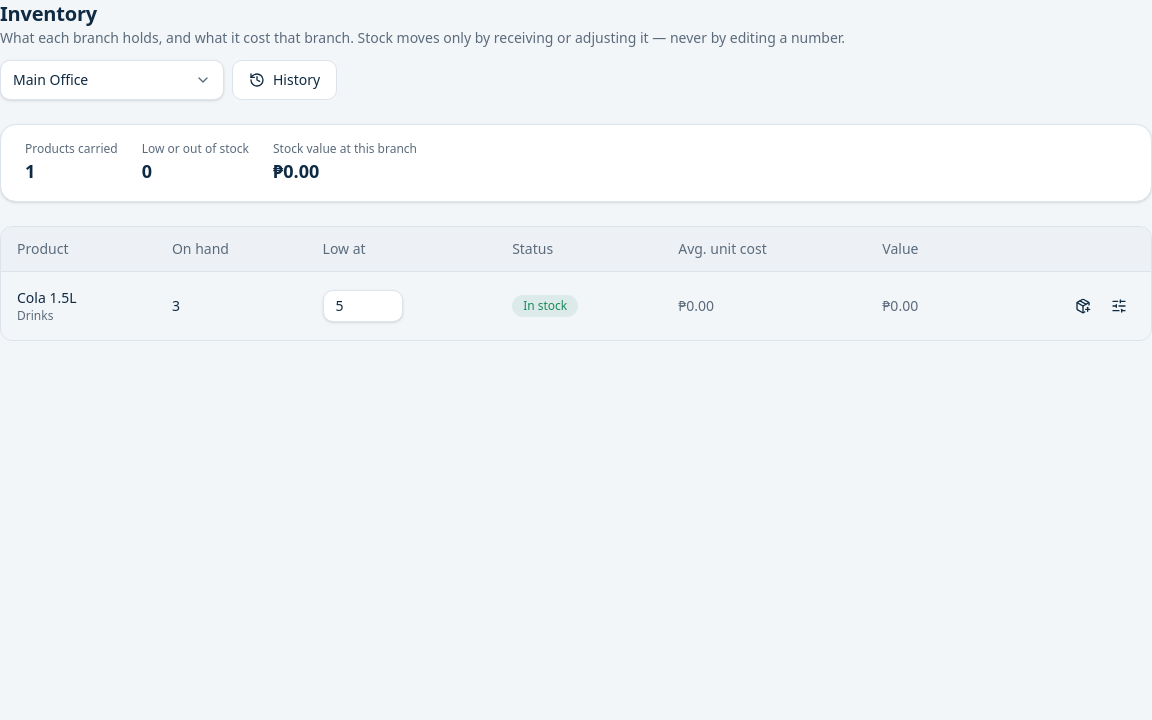
Test: adjusting a count › refuses a change that would go below zero, naming the result
Step 1. Click the button named "Adjust Cola 1.5L" → click(1119, 306), box 1103,290 -> 1135,322
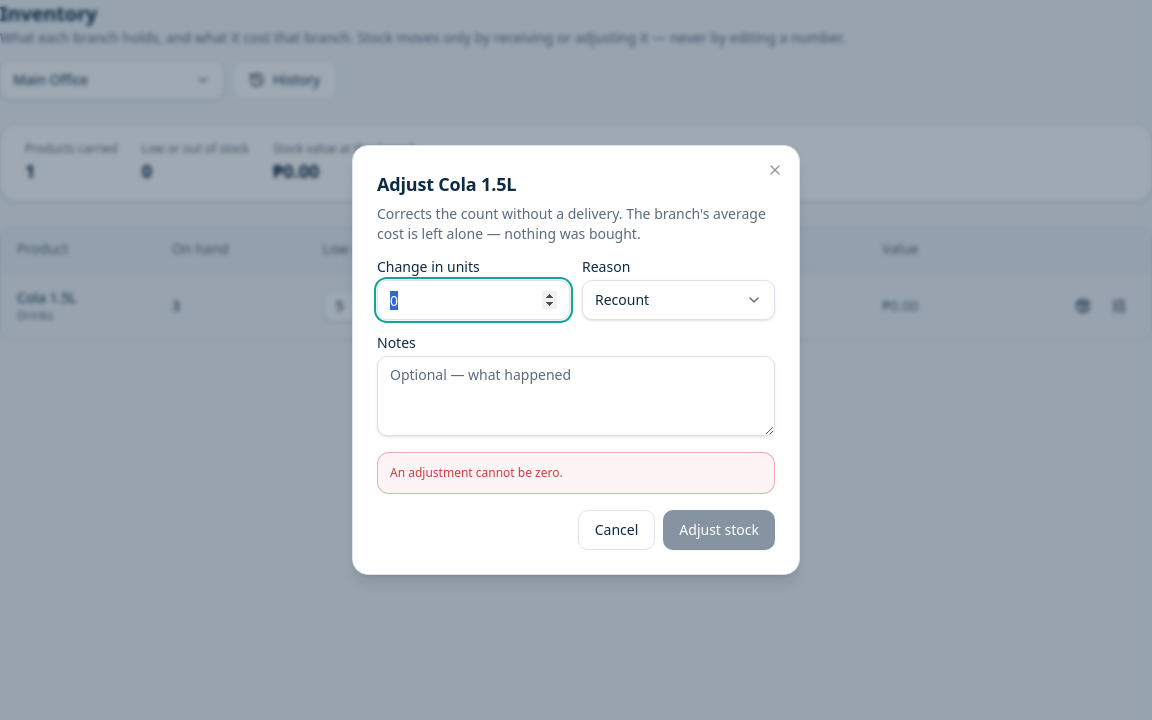
Step 2. Replace the text in the number field labelled "Change in units" with "-10" → (474, 300), box 377,280 -> 570,320
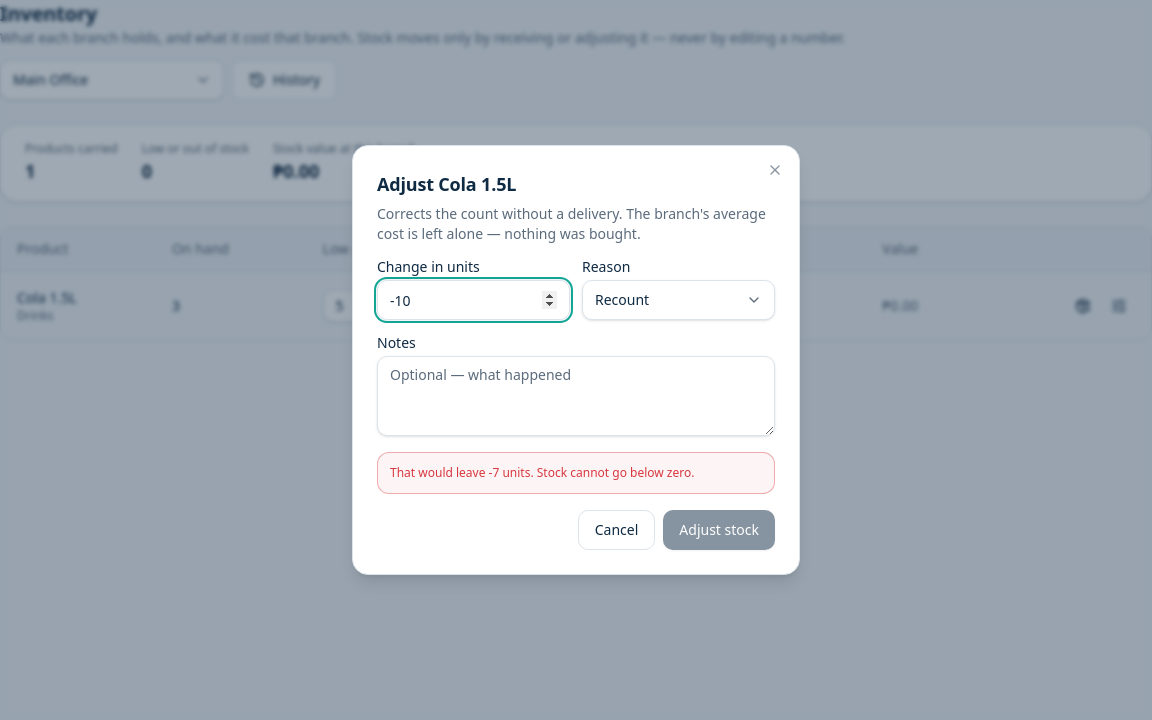
Expected: the button "Adjust stock" is disabled, 663,510 -> 775,550
Expected: the list item "That would leave -7 units. Stock cannot go below zero." is shown, 390,464 -> 694,481
